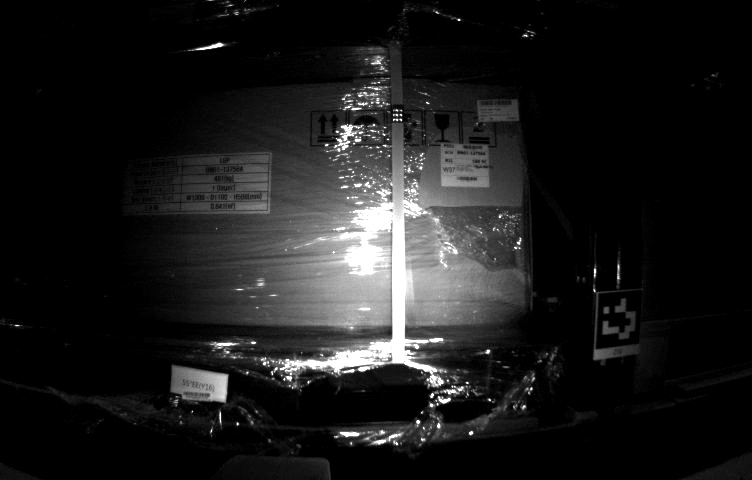True Barcode: (438, 140, 493, 189)
